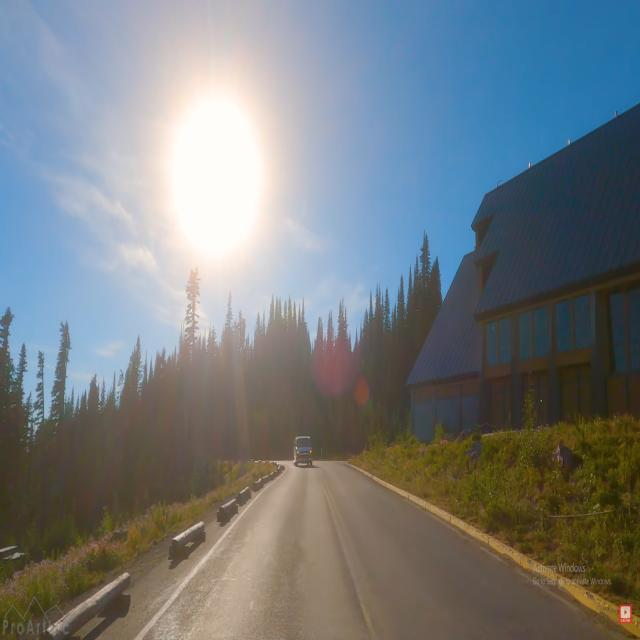sun: (132, 54, 293, 311)
